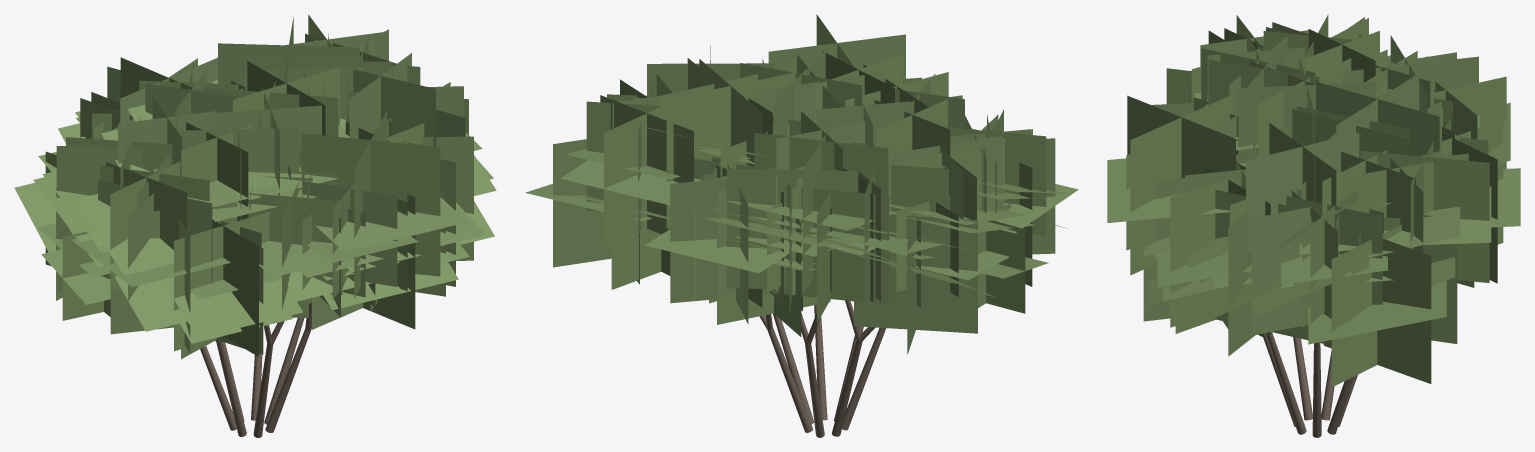
File: hazel.glb
The picture shows the model from 3 angles, left to right: view 1: azimuth 30°, elevation 25°; view 2: azimuth 150°, elevation 25°; view 3: azimuth 270°, elevation 25°; orthographic projection. The views are drawn at different scales.
Parts seen in each view (by area): view 1: hazel; view 2: hazel; view 3: hazel.
Boxes of the visible parts, x1=… form: hazel: x1=14, y1=14, x2=496, y2=437; hazel: x1=525, y1=14, x2=1078, y2=437; hazel: x1=1107, y1=14, x2=1520, y2=437.
Size of the model in its own units: 5.52 by 4.23 by 4.38.
